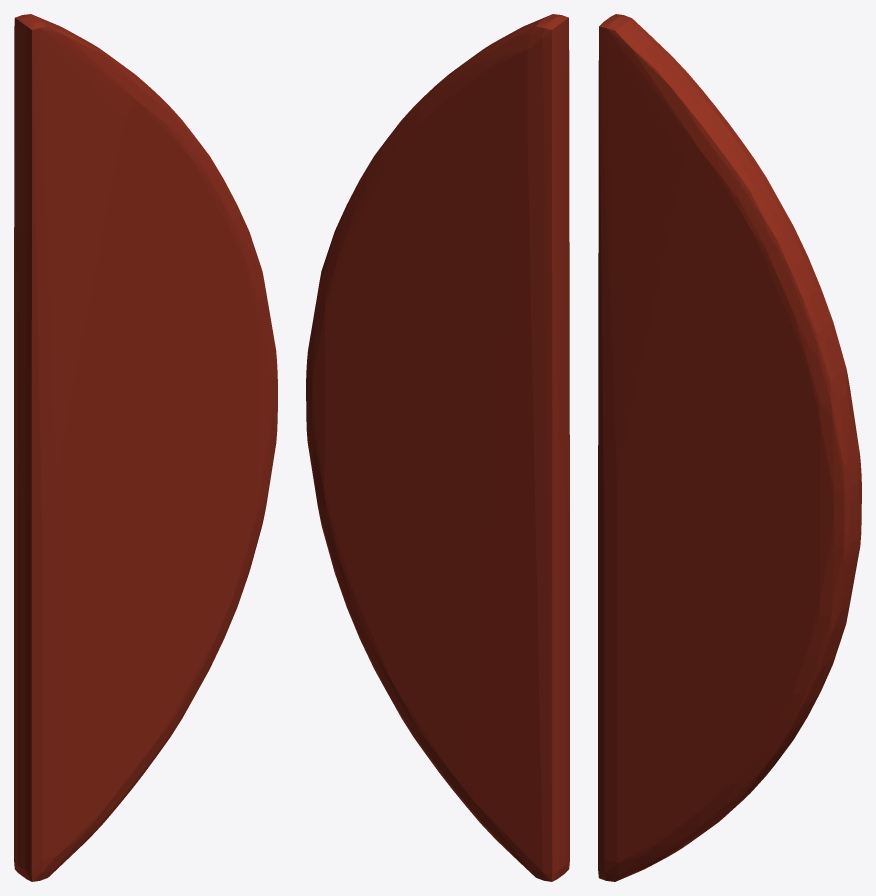
Rendered from right_forearm_0_part_15.obj.
3 renders of one model, left to right at view 1: azimuth 30°, elevation 25°; view 2: azimuth 150°, elevation 25°; view 3: azimuth 330°, elevation 25°, orthographic.
Size of the model in its own units: 35.87 by 118 by 5.89.
